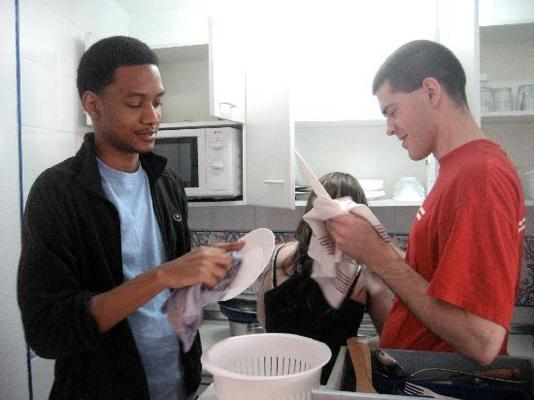person: (17, 37, 246, 400)
